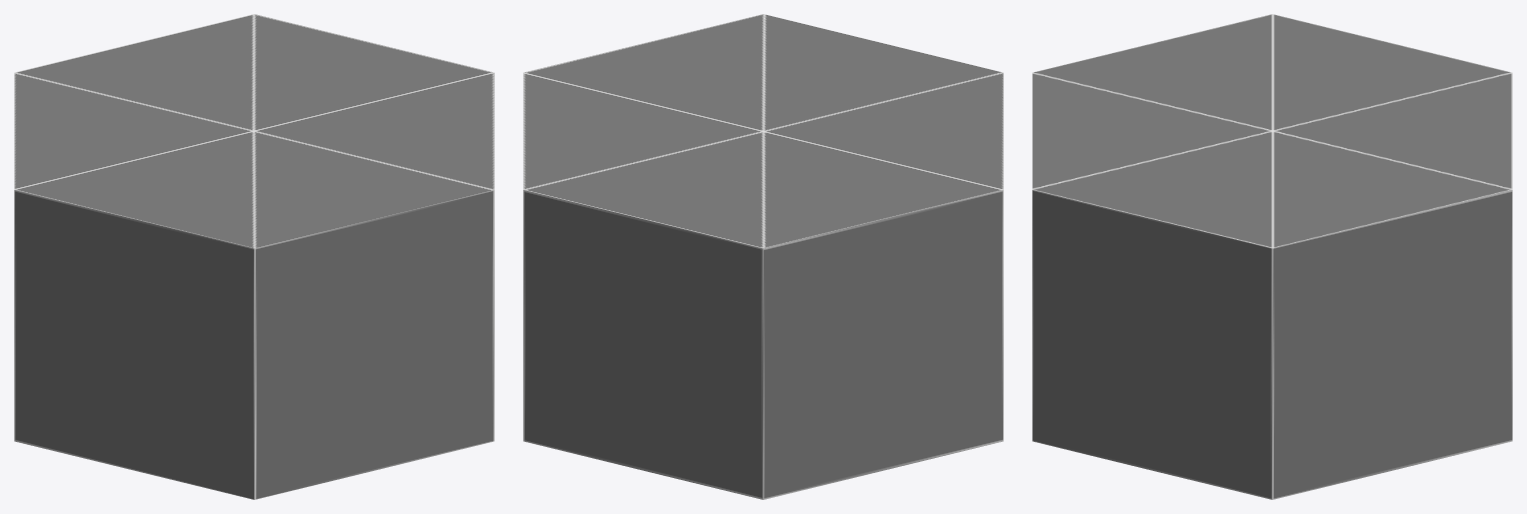
Rendered from Hex.fbx.
3 renders of one model, left to right at view 1: azimuth 30°, elevation 25°; view 2: azimuth 150°, elevation 25°; view 3: azimuth 270°, elevation 25°, orthographic.
Parts seen in each view (by area): view 1: Cylinder; view 2: Cylinder; view 3: Cylinder.
Boxes of the visible parts, x1,y1,x2,y2 form: Cylinder: (14,14,494,499); Cylinder: (523,14,1003,499); Cylinder: (1032,14,1512,499).
Bounding box in the file's own units: 100 × 50 × 86.6.
Materials: 1 (1 with a texture image).
